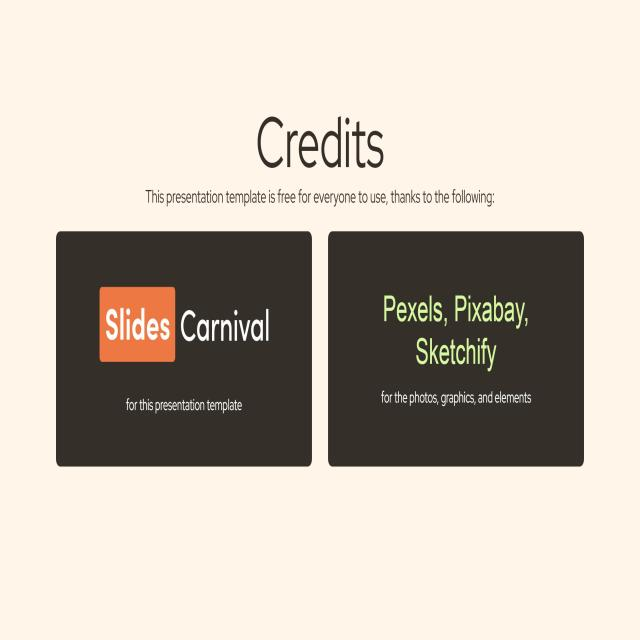image: (326, 230, 587, 468), (56, 234, 316, 466)
text: (142, 178, 501, 217)
title: (232, 116, 398, 176)
